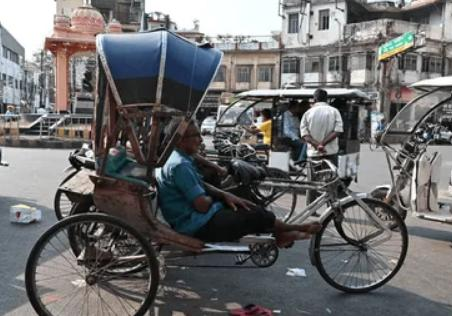Rickshaw: (26, 28, 279, 315), (231, 159, 407, 292)
